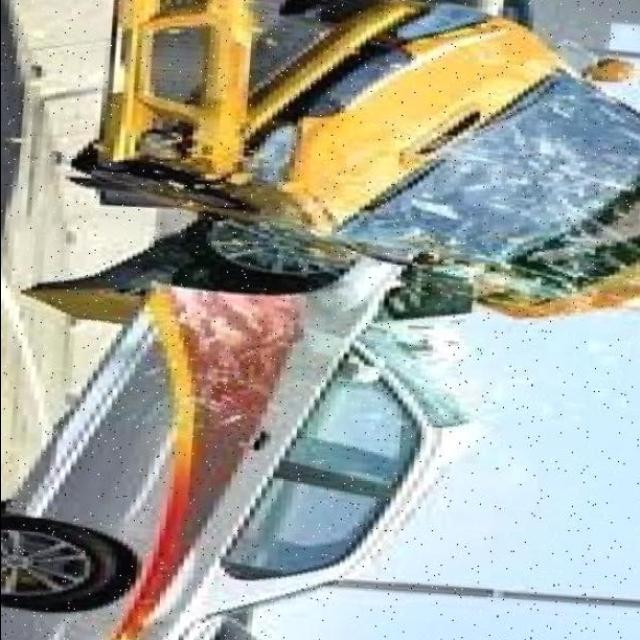accident: (14, 0, 640, 526)
